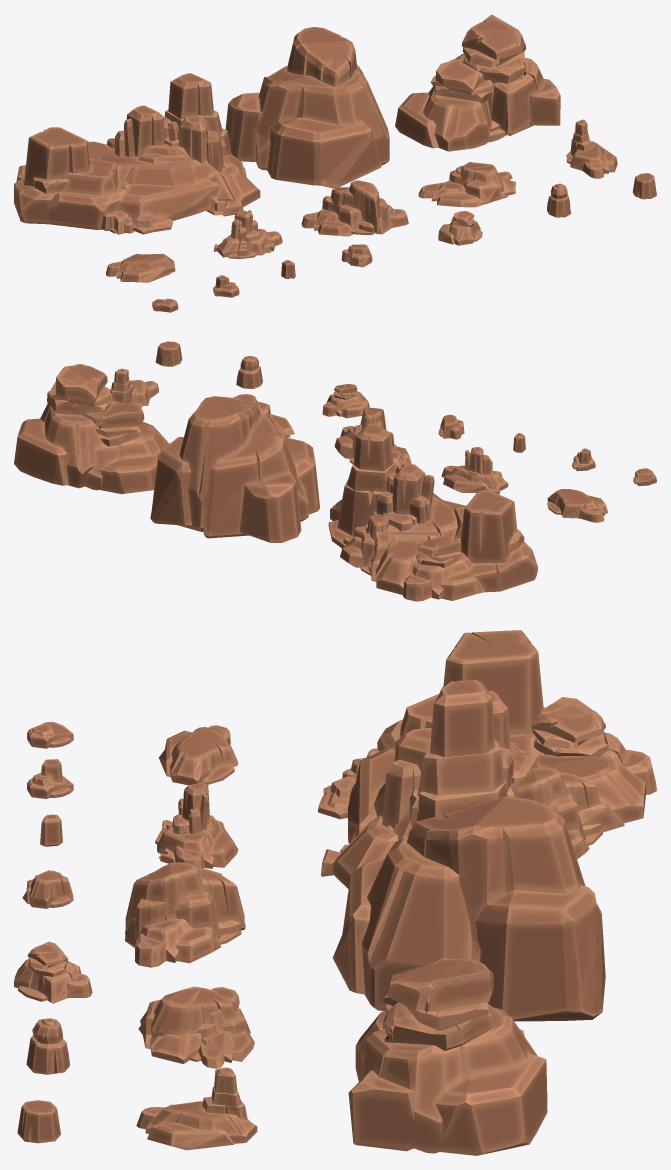
Rendered from rocas.glb.
3 views of the same model, one above another, from view 1: azimuth 30°, elevation 25°; view 2: azimuth 150°, elevation 25°; view 3: azimuth 270°, elevation 25° (orthographic). The views are drawn at different scales.
Visible parts, largest first — view 1: Cube.013_Big_rock_1_0, Cube.009_Big_rock_2_0, Cube.015_Big_rock_3_0, Cube.008_Midle_rock_2_0, Cube.005_Midle_rock_1_0, Cube.014_Midle_rock_3_0, Cube.001_small_rock_0, Cube.011_Small_rock_2_0; view 2: Cube.013_Big_rock_1_0, Cube.009_Big_rock_2_0, Cube.015_Big_rock_3_0, Cube.005_Midle_rock_1_0, Cube.014_Midle_rock_3_0, Cube.008_Midle_rock_2_0, Cube.001_small_rock_0, Cube.011_Small_rock_2_0; view 3: Cube.009_Big_rock_2_0, Cube.013_Big_rock_1_0, Cube.015_Big_rock_3_0, Cube.008_Midle_rock_2_0, Cube.014_Midle_rock_3_0, Cube.005_Midle_rock_1_0, Cube.001_small_rock_0, Cube.011_Small_rock_2_0.
Part boxes in pixels (x1,y1,x2,y2): Cube.013_Big_rock_1_0: (14,73,260,234); Cube.009_Big_rock_2_0: (225,27,389,188); Cube.015_Big_rock_3_0: (395,14,560,151); Cube.008_Midle_rock_2_0: (301,162,515,236); Cube.005_Midle_rock_1_0: (106,210,282,282); Cube.014_Midle_rock_3_0: (438,119,617,245); Cube.001_small_rock_0: (152,244,372,312); Cube.011_Small_rock_2_0: (547,173,656,217); Cube.013_Big_rock_1_0: (328,423,537,601); Cube.009_Big_rock_2_0: (150,396,319,542); Cube.015_Big_rock_3_0: (14,364,169,494); Cube.005_Midle_rock_1_0: (441,447,608,522); Cube.014_Midle_rock_3_0: (110,368,369,418); Cube.008_Midle_rock_2_0: (233,394,411,464); Cube.001_small_rock_0: (438,414,656,485); Cube.011_Small_rock_2_0: (155,341,262,388); Cube.009_Big_rock_2_0: (333,796,605,1021); Cube.013_Big_rock_1_0: (318,630,656,888); Cube.015_Big_rock_3_0: (348,958,547,1155); Cube.008_Midle_rock_2_0: (125,862,254,1068); Cube.014_Midle_rock_3_0: (14,941,257,1150); Cube.005_Midle_rock_1_0: (155,725,238,868); Cube.001_small_rock_0: (22,721,73,908); Cube.011_Small_rock_2_0: (17,1018,69,1143).
Bounding box in the file's own units: 62.71 × 12.83 × 39.99.
Materials: 8 (8 with a texture image).
